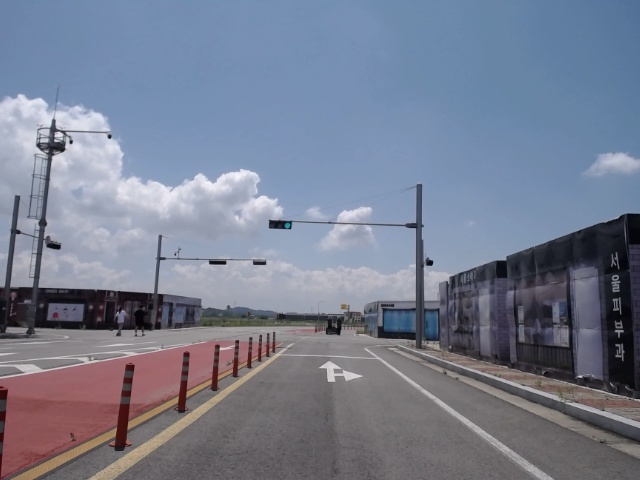green_3: (270, 220, 292, 229)
